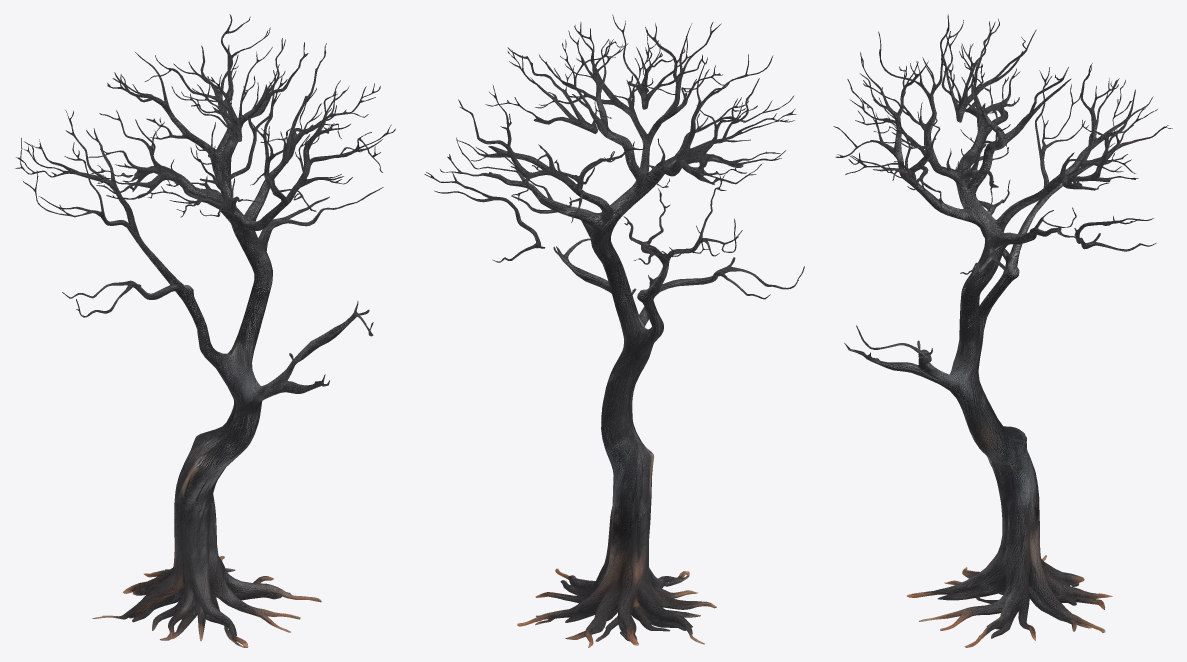
File: tree_web.glb
The picture shows the model from 3 angles, left to right: view 1: azimuth 30°, elevation 25°; view 2: azimuth 150°, elevation 25°; view 3: azimuth 270°, elevation 25°; orthographic projection.
Bounding box in the file's own units: 1.07 × 1.9 × 1.02.
Materials: 1 (1 with a texture image).
